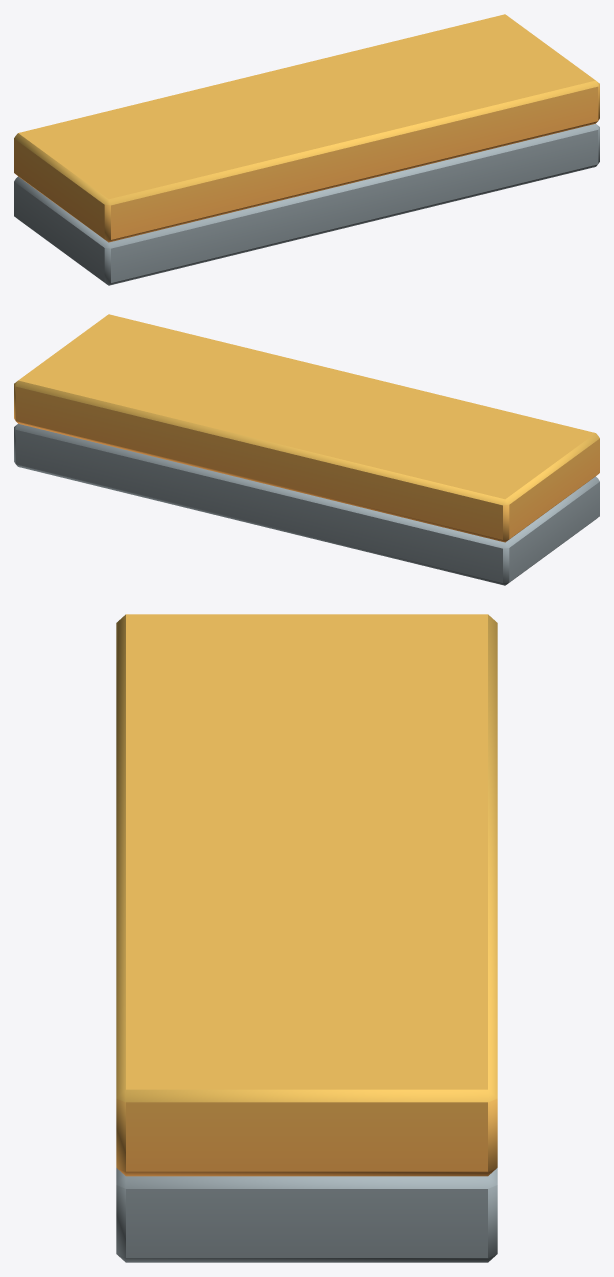
The model's file is platform_6x2x1_yellow.glb.
3 renders of one model, top to bottom at view 1: azimuth 30°, elevation 25°; view 2: azimuth 150°, elevation 25°; view 3: azimuth 270°, elevation 25°, orthographic. The views are drawn at different scales.
Visible parts, largest first — view 1: platform_6x2x1_yellow; view 2: platform_6x2x1_yellow; view 3: platform_6x2x1_yellow.
Boxes of the visible parts, box(x1,y1,x2,y2) form: platform_6x2x1_yellow: box(14, 14, 599, 285); platform_6x2x1_yellow: box(14, 314, 599, 585); platform_6x2x1_yellow: box(116, 614, 497, 1262).
Bounding box in the file's own units: 6 × 1 × 2.
1 material, 1 textured.
